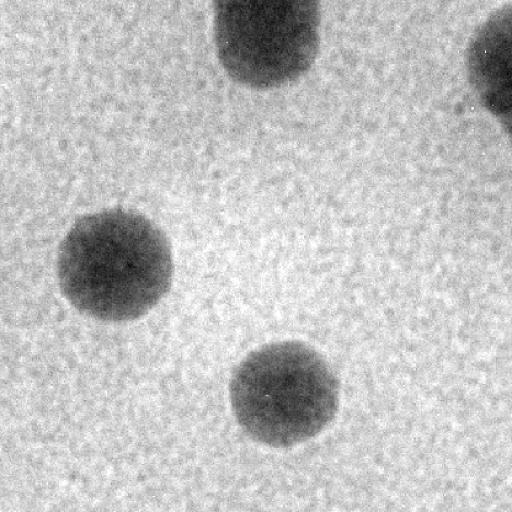Nanoparticles: (55, 205, 175, 321), (226, 338, 342, 448), (211, 0, 323, 87), (465, 6, 511, 134)
